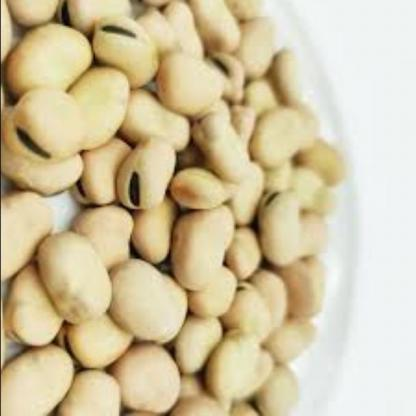beans: (0, 0, 366, 416)
